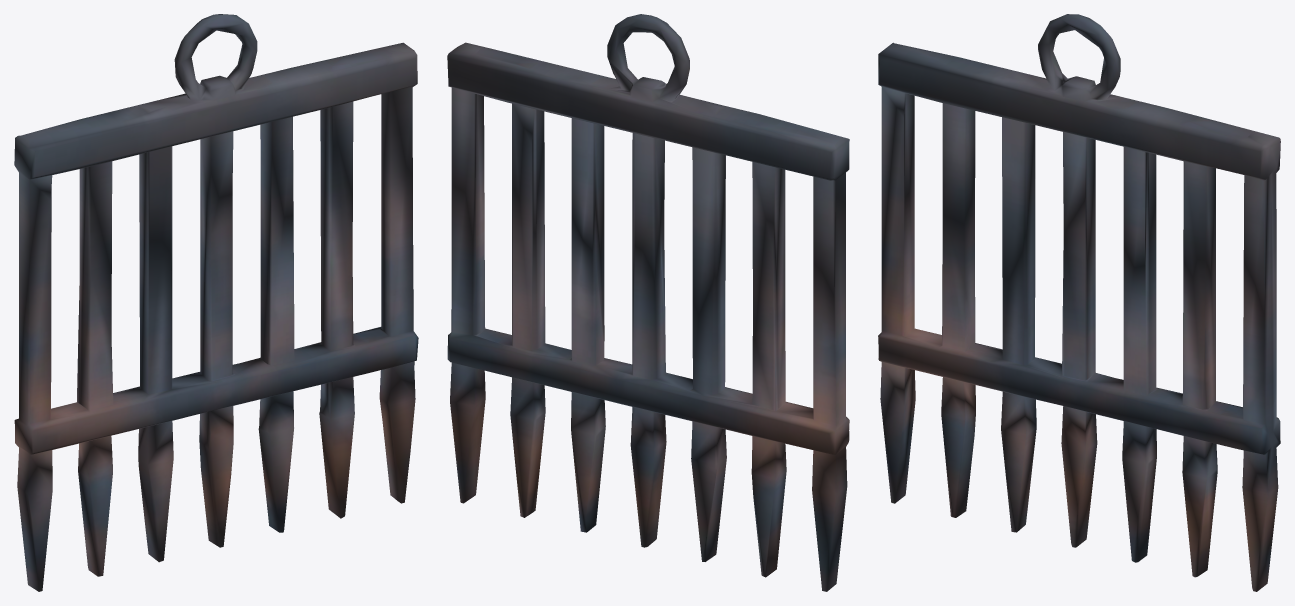
Rendered from gate.glb.
The picture shows the model from 3 angles, left to right: view 1: azimuth 30°, elevation 25°; view 2: azimuth 150°, elevation 25°; view 3: azimuth 330°, elevation 25°; orthographic projection.
Parts seen in each view (by area): view 1: iron; view 2: iron; view 3: iron.
Boxes of the visible parts, <box> form: iron: <box>14,14,418,591</box>; iron: <box>447,14,849,591</box>; iron: <box>878,14,1280,591</box>.
Bounding box in the file's own units: 1.21 × 1.57 × 0.0996.
1 material, 1 textured.
